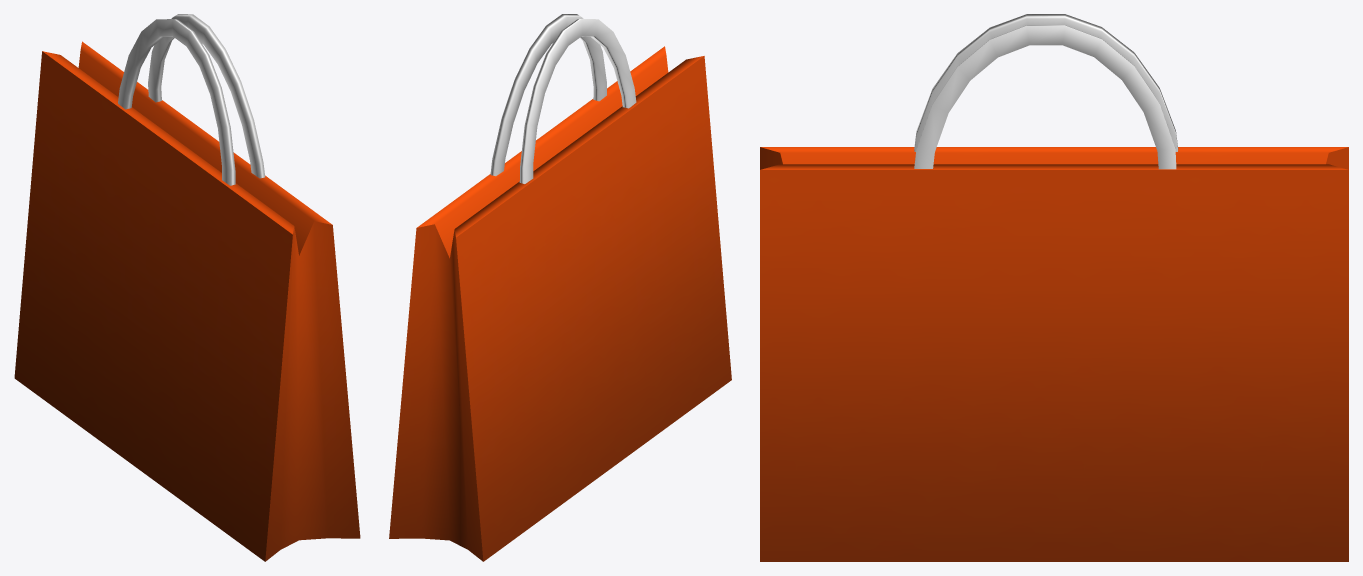
Rendered from PRP_Bag_11.fbx.
3 renders of one model, left to right at view 1: azimuth 30°, elevation 25°; view 2: azimuth 150°, elevation 25°; view 3: azimuth 270°, elevation 25°, orthographic. The views are drawn at different scales.
Visible parts, largest first — view 1: PRP_Bag_11; view 2: PRP_Bag_11; view 3: PRP_Bag_11.
Boxes of the visible parts, bbox=[...] form: PRP_Bag_11: bbox=[14, 14, 360, 561]; PRP_Bag_11: bbox=[389, 14, 731, 561]; PRP_Bag_11: bbox=[760, 14, 1348, 561].
Bounding box in the file's own units: 15.58 × 68.56 × 71.05.
